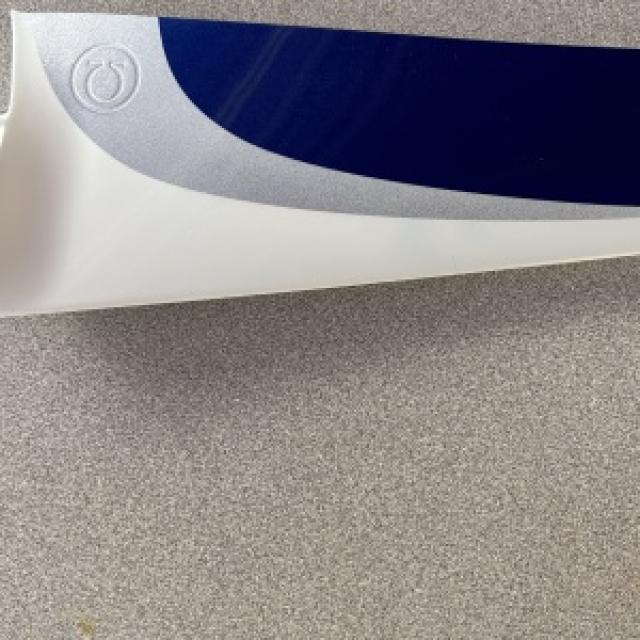healthy: (0, 11, 638, 314)
